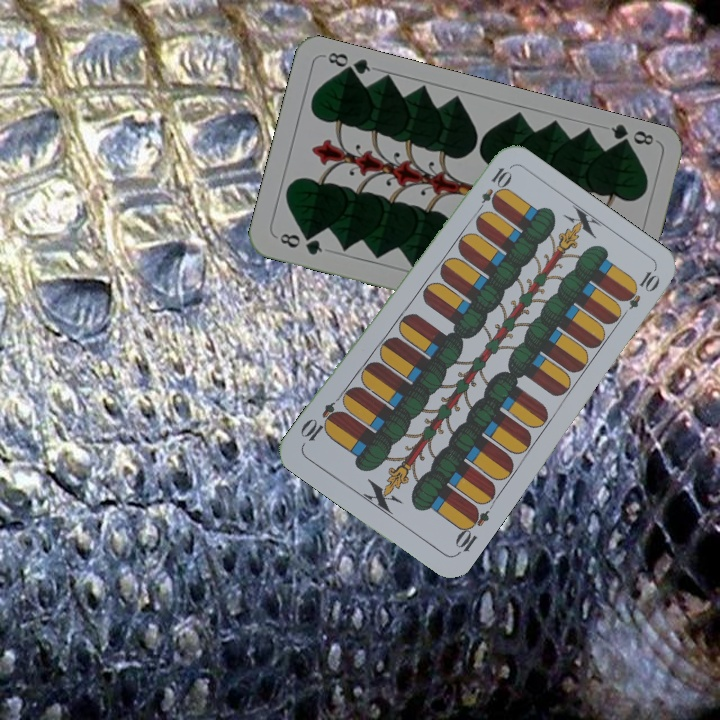E10: (450, 502, 492, 558), (472, 163, 513, 218)
G8: (607, 120, 659, 153), (275, 229, 325, 258)
